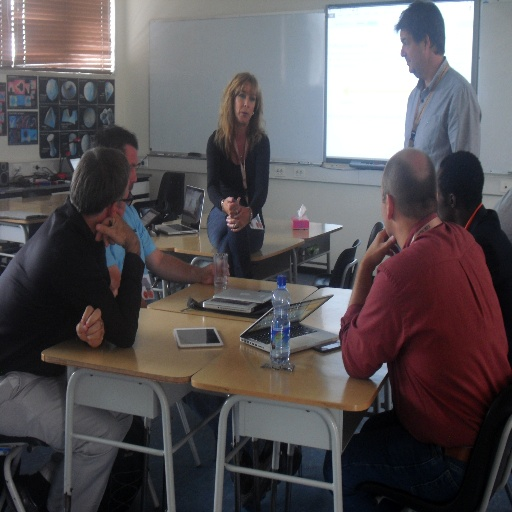hand: (62, 308, 104, 354), (92, 213, 137, 248), (364, 227, 400, 266), (201, 258, 231, 286), (225, 205, 250, 232), (222, 195, 241, 214)
